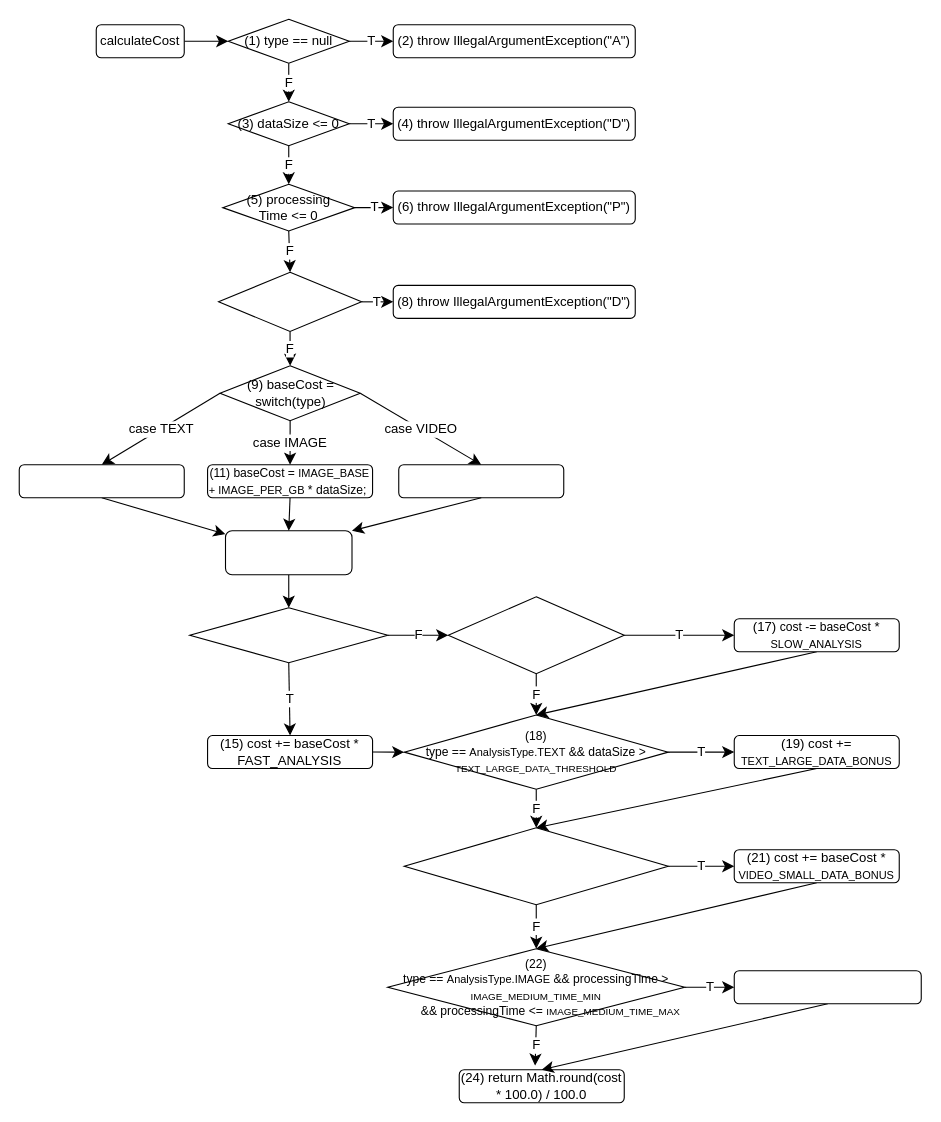
This 941x1122 diagram has some shape labels left out. The shapes that lost their labels are listed below. From the top down, each one's centre as x and y in pixels, then its label:
At point 289,301: "(7) dataSize > MAX_DATA_SIZE".
At point 101,481: "(10) baseCost = TEXT_BASE + TEXT_PER_GB * dataSize;".
At point 481,481: "(12) baseCost = VIDEO_BASE + VIDEO_PER_GB * dataSize;".
At point 288,552: "(13) cost = baseCost".
At point 288,635: "(14) processingTime <= FAST_PROCESSING_HOURS".
At point 535,635: "(16) processingTime > SLOW_PROCESSING_HOURS".
At point 535,866: "(20) type == AnalysisType.VIDEO && dataSize < VIDEO_SMALL_DATA_THRESHOLD".
At point 827,987: "(23) cost -= baseCost * IMAGE_MEDIUM_TIME_PENALTY".
